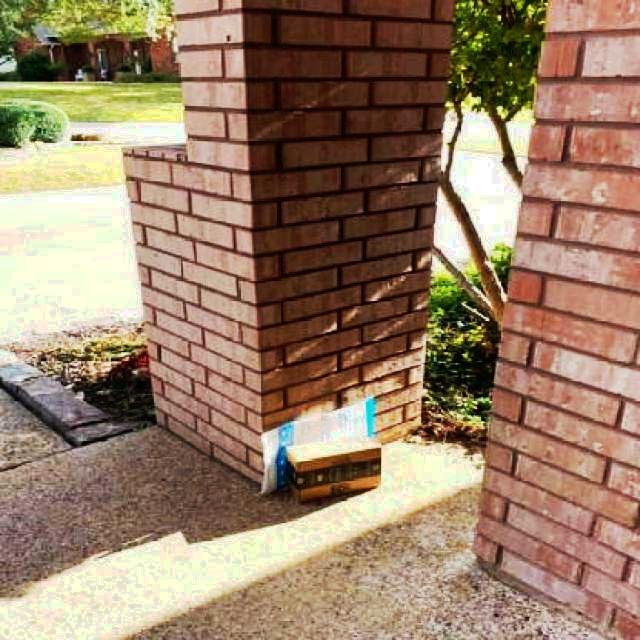Box: (260, 397, 374, 497), (286, 434, 380, 503)
